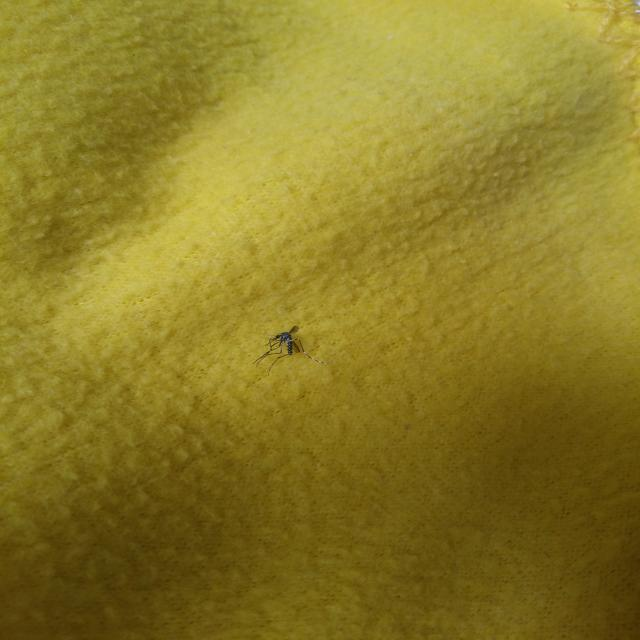albopictus: (254, 323, 328, 375)
